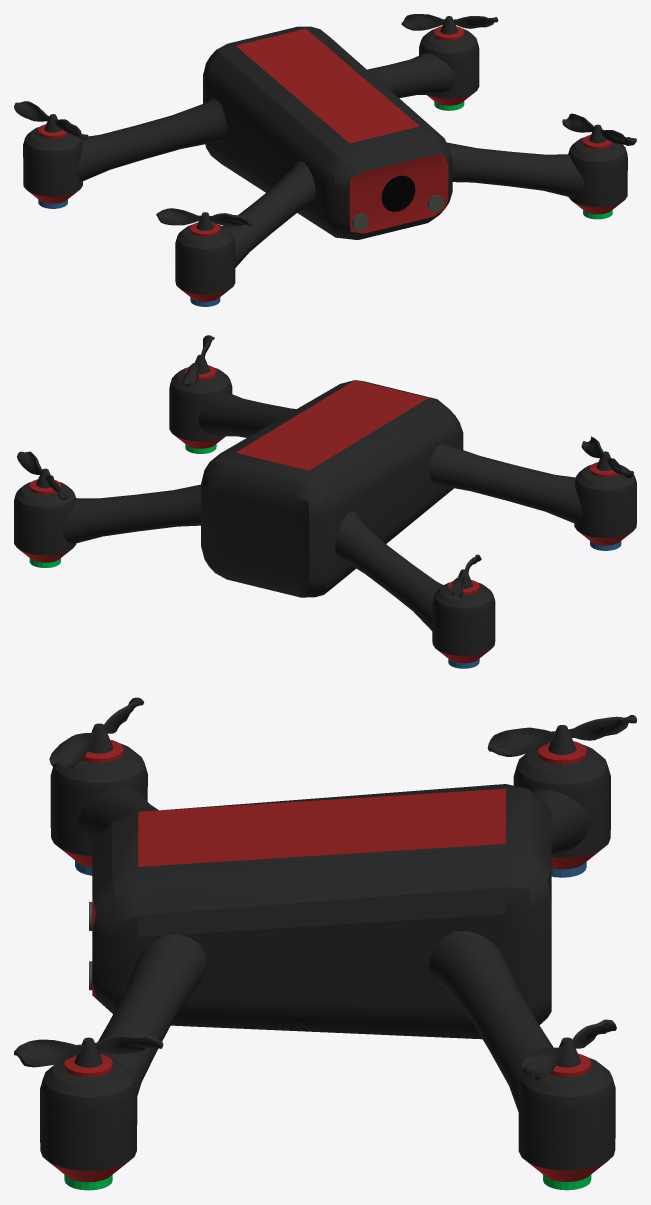
Rendered from Drone.fbx.
3 renders of one model, top to bottom at view 1: azimuth 30°, elevation 25°; view 2: azimuth 150°, elevation 25°; view 3: azimuth 270°, elevation 25°, orthographic. The views are drawn at different scales.
Visible parts, largest first — view 1: BasePiece, Leg (×4), PropCupMesh (×4), TopPiece, CameraBackPiece, Propellors (×4), Camera; view 2: BasePiece, Leg (×4), PropCupMesh (×4), TopPiece, Propellors (×4); view 3: BasePiece, PropCupMesh (×4), Leg (×4), TopPiece, Propellors (×4).
Part boxes in pixels (left/top/right/bottom): BasePiece: left=203, top=26, right=452, bottom=239; Leg (×4): left=77, top=53, right=584, bottom=267; PropCupMesh (×4): left=23, top=28, right=627, bottom=294; TopPiece: left=236, top=28, right=419, bottom=143; CameraBackPiece: left=349, top=154, right=448, bottom=233; Propellors (×4): left=14, top=14, right=636, bottom=230; Camera: left=381, top=175, right=415, bottom=211; BasePiece: left=201, top=380, right=463, bottom=597; Leg (×4): left=62, top=392, right=582, bottom=630; PropCupMesh (×4): left=14, top=367, right=636, bottom=655; TopPiece: left=236, top=380, right=428, bottom=470; Propellors (×4): left=17, top=335, right=633, bottom=598; BasePiece: left=92, top=784, right=551, bottom=1039; PropCupMesh (×4): left=40, top=743, right=615, bottom=1170; Leg (×4): left=78, top=787, right=589, bottom=1111; TopPiece: left=138, top=788, right=505, bottom=866; Propellors (×4): left=14, top=697, right=636, bottom=1079.
Bounding box in the file's own units: 0.0588 × 0.0157 × 0.0425.
